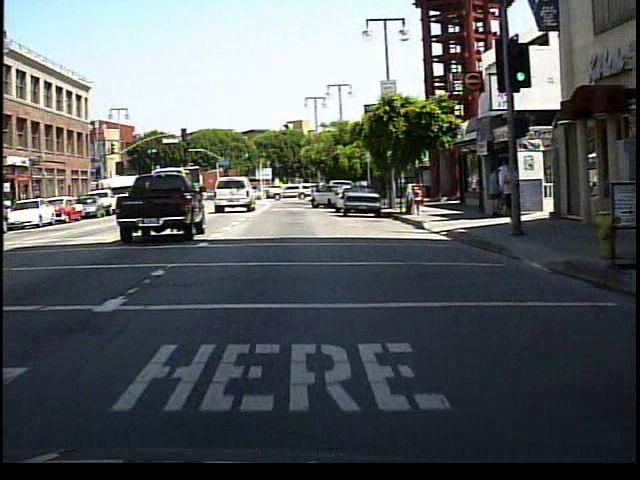person: (496, 155, 521, 228), (485, 165, 502, 220)
